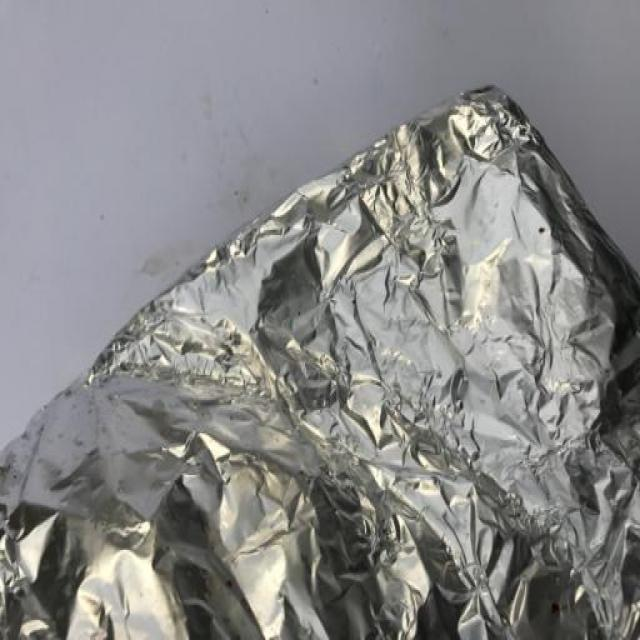others: (8, 66, 640, 640)
